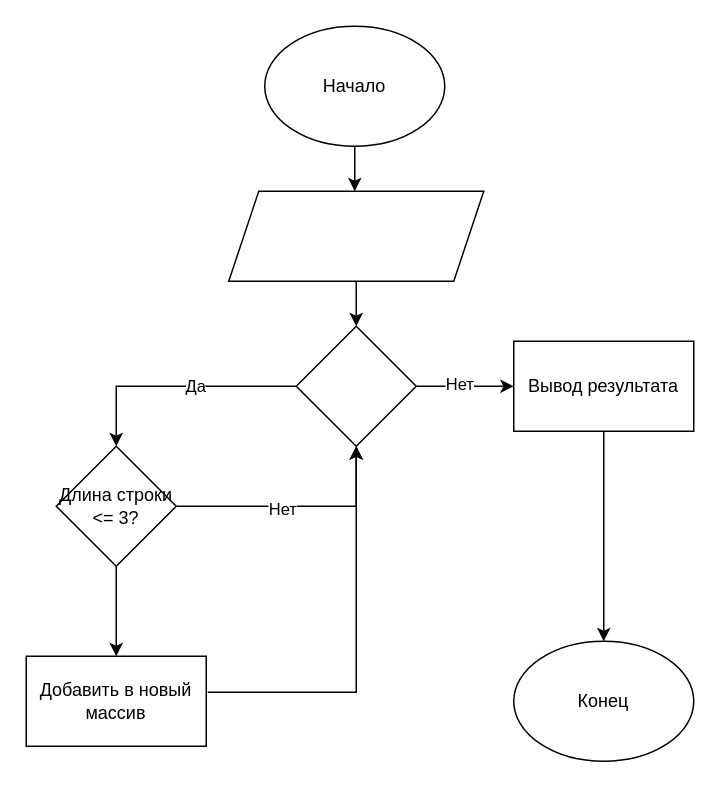
Some shapes in this 720 by 788 pixel diagram are drawn without their labels. The centre of each missing label's shape, as x and y in pixels:
Ввод массива строк: point 355,235
Есть еще элементы?: point 355,385
